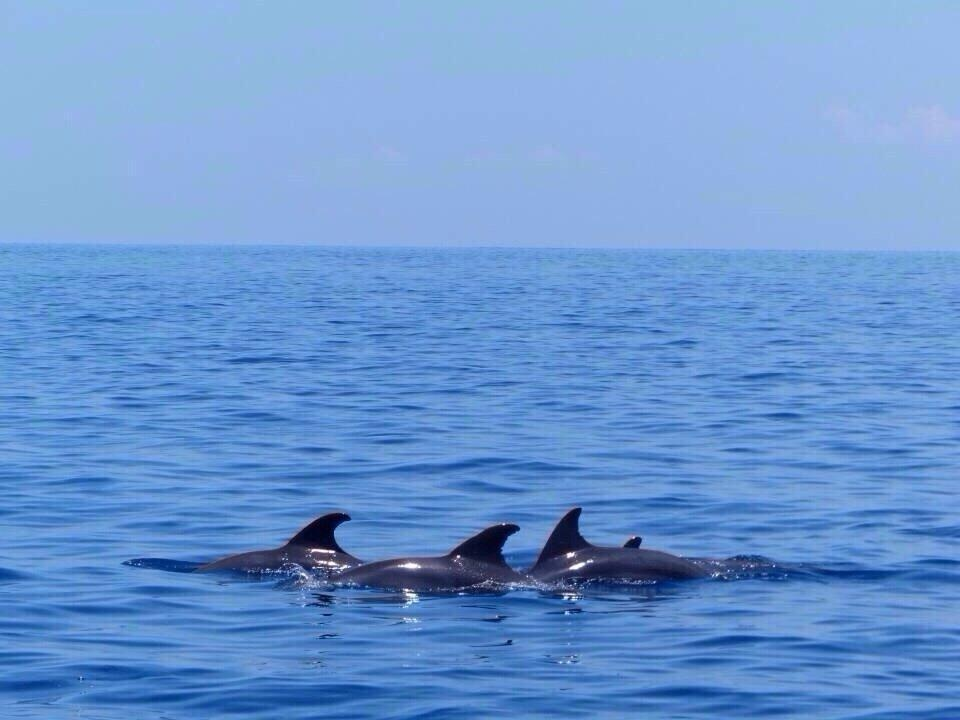fish: (297, 520, 529, 599), (533, 509, 717, 588), (202, 511, 382, 589)
